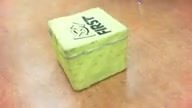cube: (47, 6, 129, 92)
